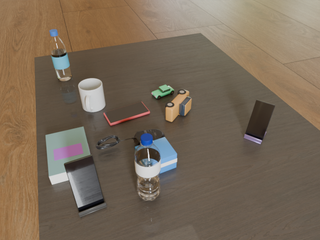book: (46, 127, 91, 184)
bottle: (134, 133, 161, 201), (50, 29, 72, 81)
box: (135, 137, 177, 173)
cup: (78, 79, 105, 112)
mouse: (132, 129, 165, 145)
phone: (64, 155, 104, 211), (245, 100, 275, 140), (104, 102, 150, 125)
toy_car: (165, 90, 191, 122), (152, 85, 174, 99)
